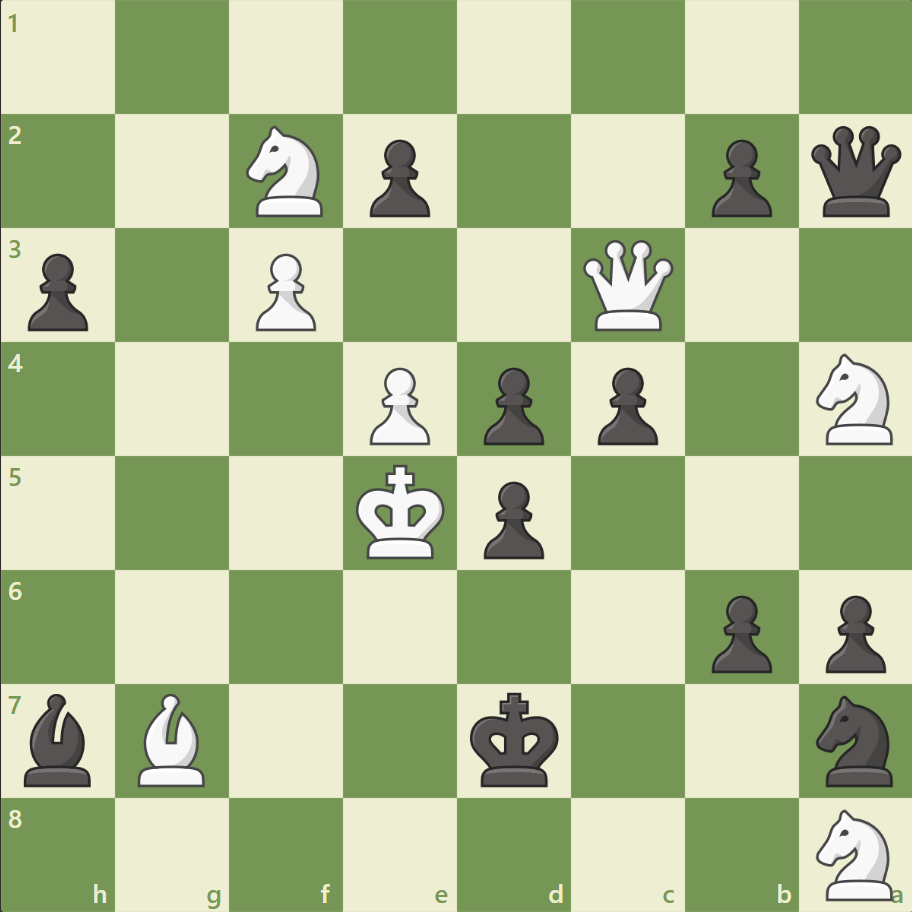B: (131, 687, 215, 790)
K: (351, 458, 451, 566)
N: (806, 802, 903, 904), (806, 348, 903, 450), (238, 121, 335, 223)
P: (247, 246, 322, 337), (361, 359, 435, 450)
Q: (578, 236, 677, 335)
b: (17, 687, 101, 790)
k: (465, 685, 565, 793)
n: (806, 688, 903, 791)
p: (701, 586, 776, 677), (474, 473, 549, 564), (474, 359, 549, 450), (20, 246, 95, 337), (701, 132, 776, 223), (815, 586, 889, 677), (588, 359, 662, 450), (361, 132, 435, 223)
q: (805, 122, 904, 222)
